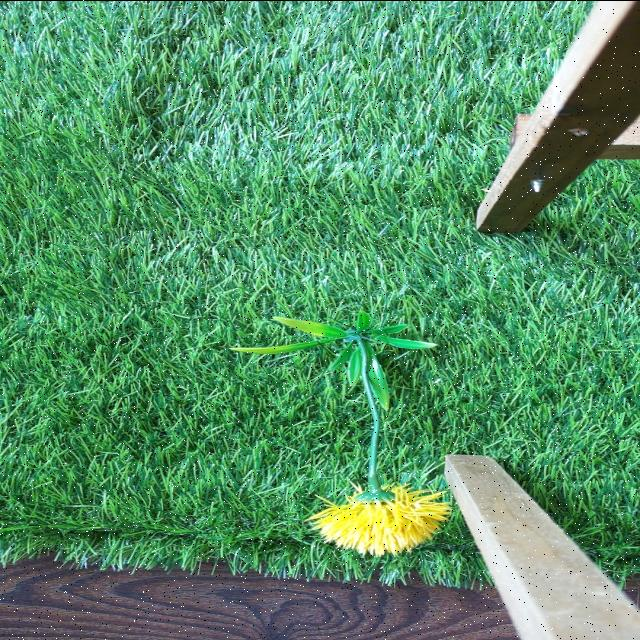base: (231, 311, 429, 404)
flower: (310, 486, 450, 554)
